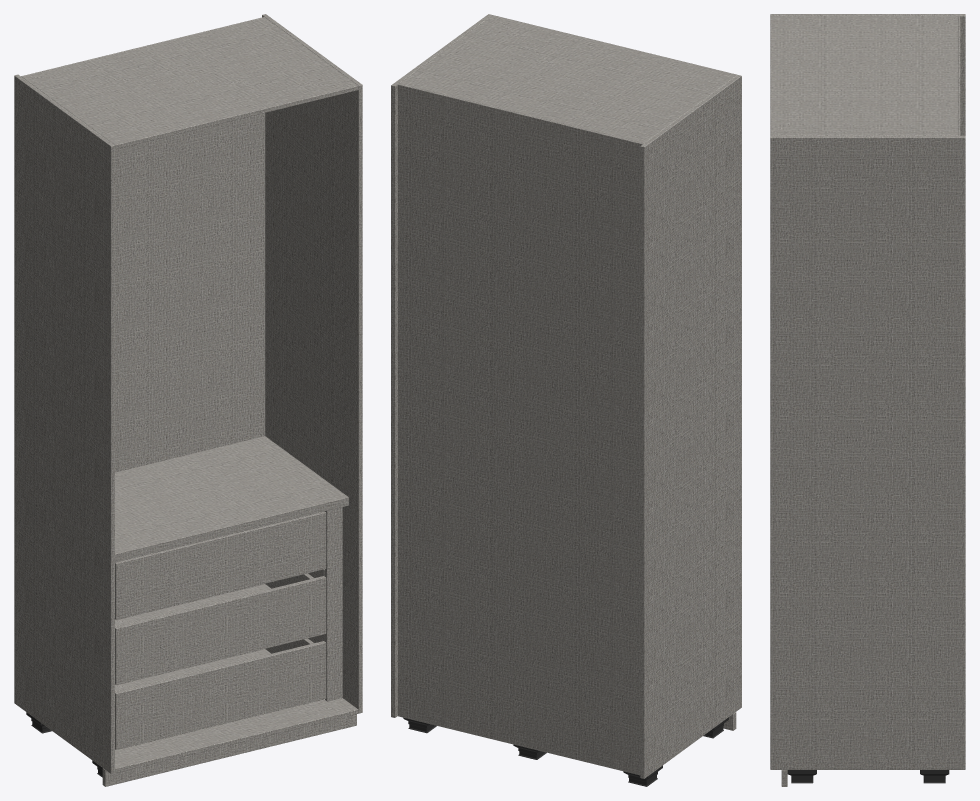
The model's file is cbib12120.gltf.
3 renders of one model, left to right at view 1: azimuth 30°, elevation 25°; view 2: azimuth 150°, elevation 25°; view 3: azimuth 270°, elevation 25°, orthographic.
Parts seen in each view (by area): view 1: CBIB12120; view 2: CBIB12120; view 3: CBIB12120.
Part boxes in pixels (bbox=[...]): CBIB12120: bbox=[14, 14, 362, 786]; CBIB12120: bbox=[391, 14, 741, 786]; CBIB12120: bbox=[770, 14, 965, 786].
Bounding box in the file's own units: 0.9 × 2.2 × 0.6.
3 materials, 2 textured.
